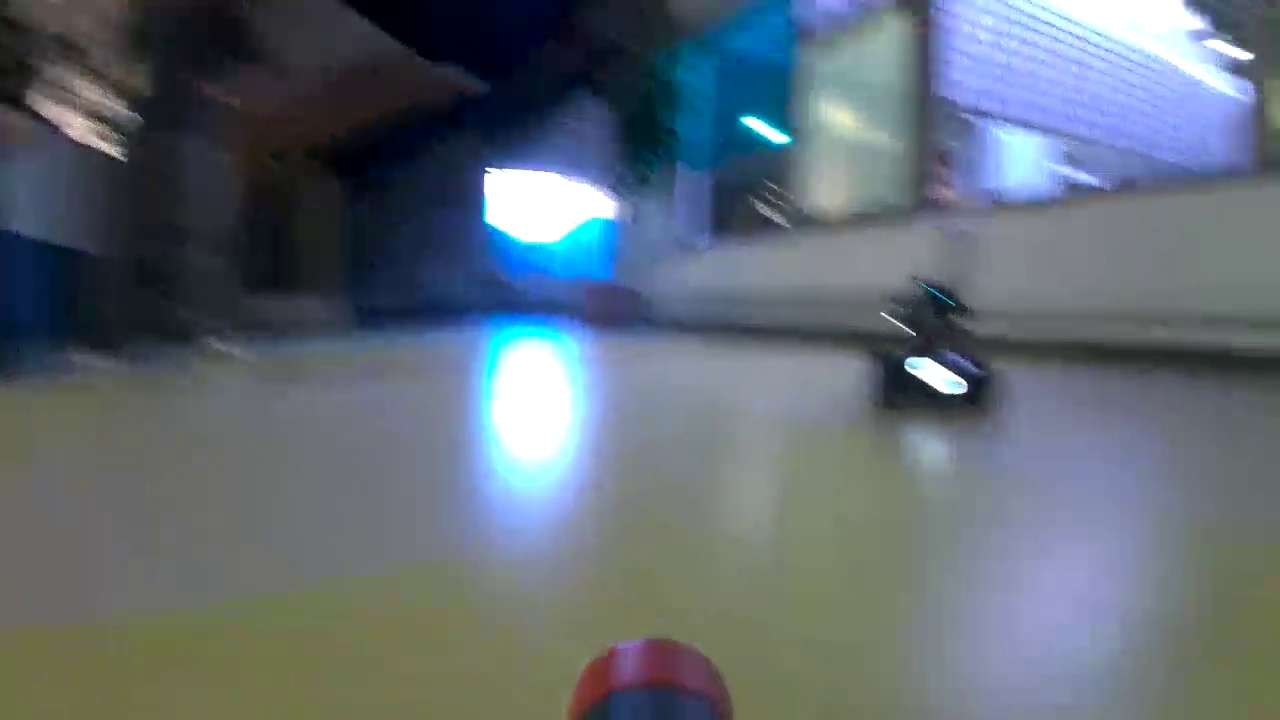robot: (873, 277, 998, 412)
